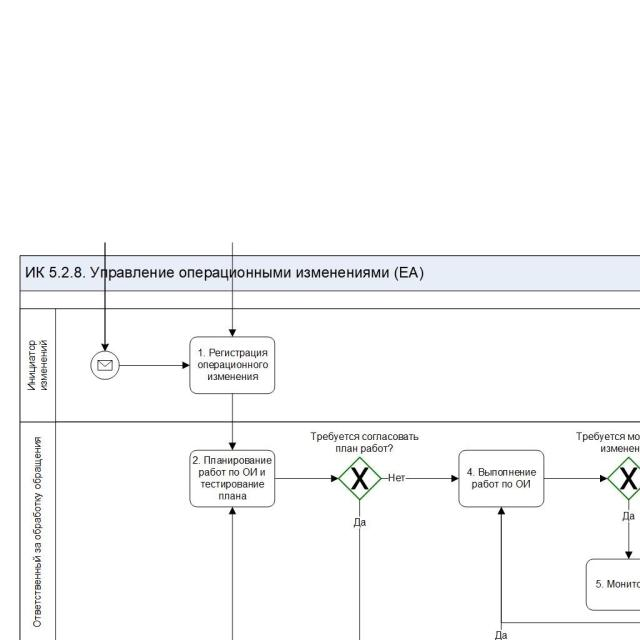arrow: (381, 474, 459, 483), (544, 474, 607, 484), (119, 362, 189, 370), (275, 474, 339, 482), (229, 394, 236, 450)
circle: (90, 351, 120, 380)
diamond: (337, 455, 381, 501)
rectangle: (188, 336, 277, 395), (188, 449, 276, 507), (458, 450, 545, 508)
text_region: (89, 264, 426, 282), (311, 432, 419, 453), (388, 473, 406, 483), (353, 517, 367, 529), (622, 510, 636, 521)
